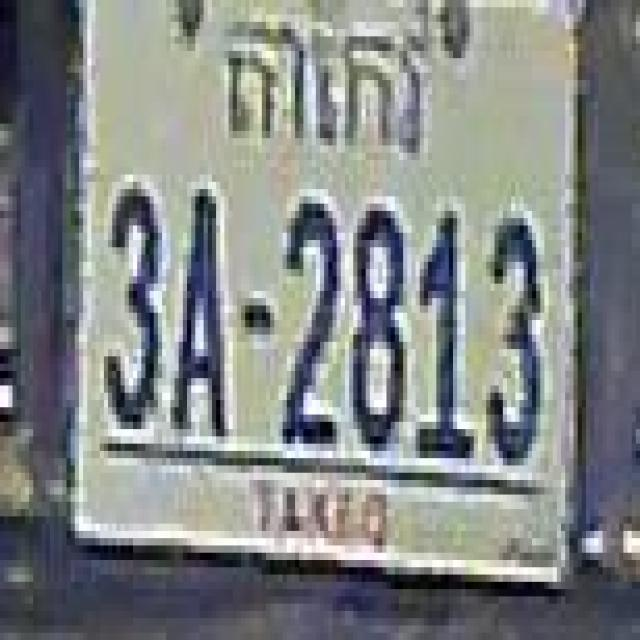Takeo: (225, 0, 430, 154)
